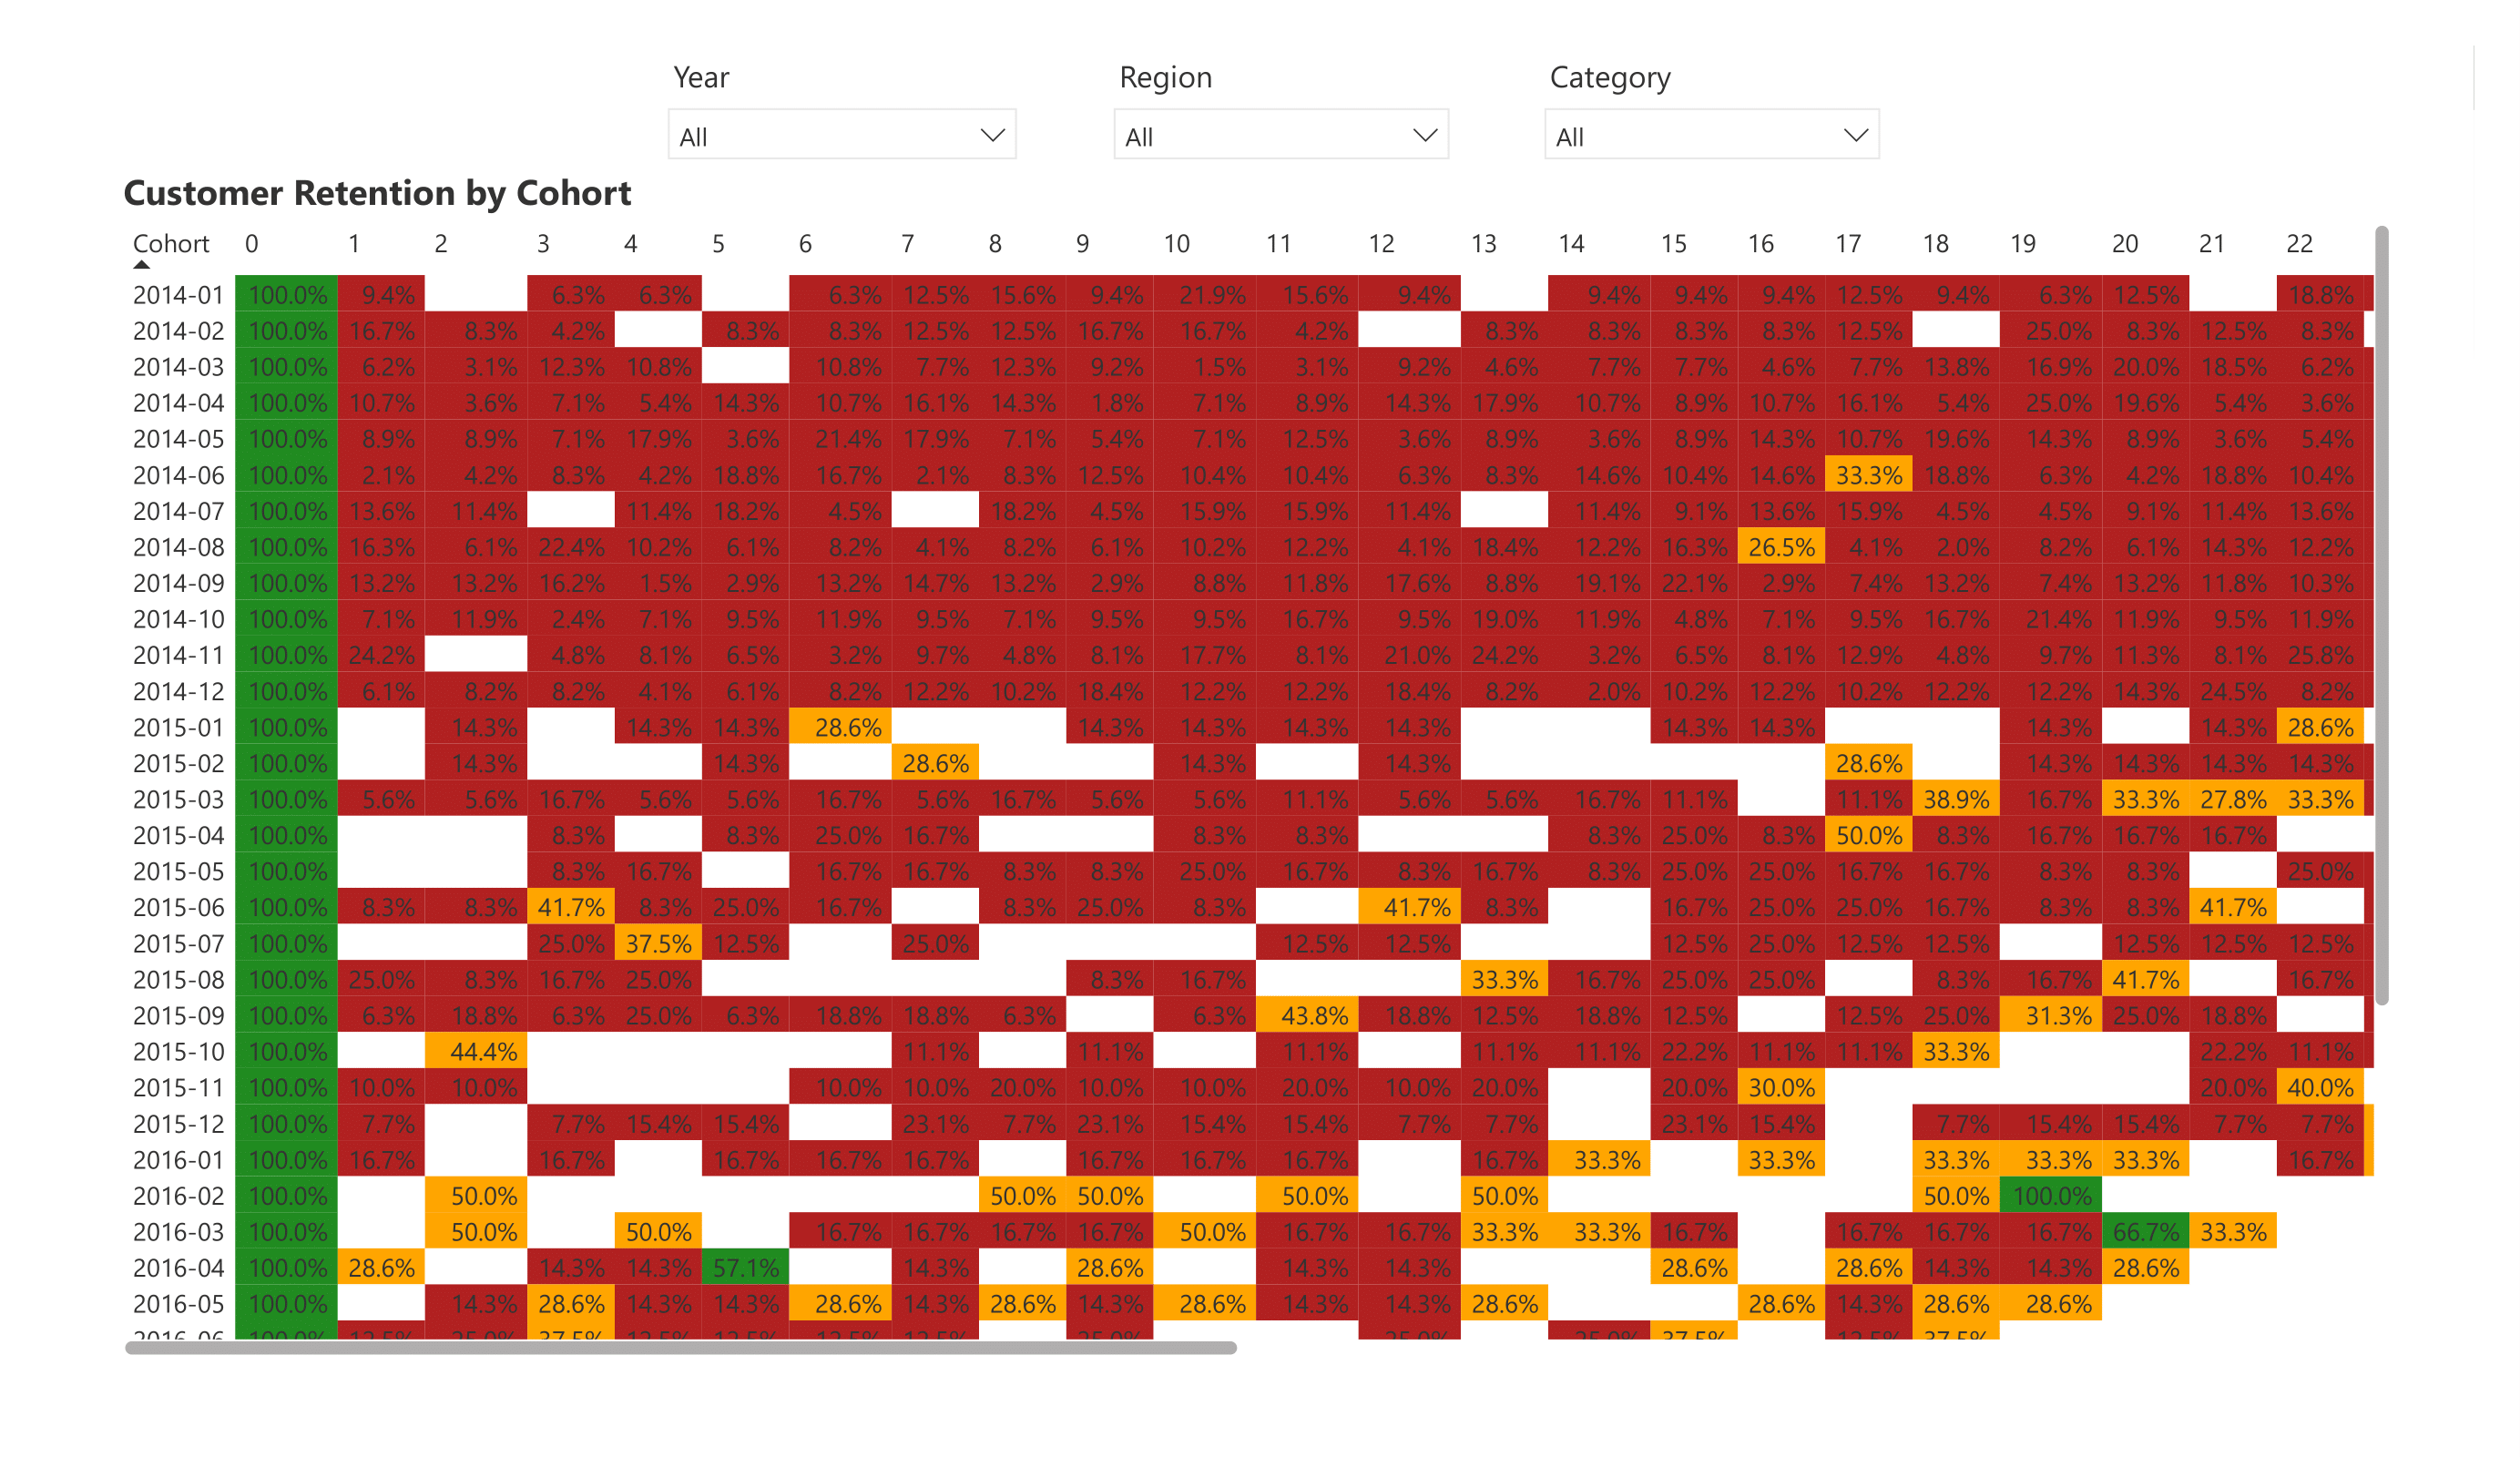

What the dashboard file says about the page in this screenshot:
{"tool":"powerbi","page":{"name":"Page 3","canvas":[1280,720],"ordinal":2},"visuals":[{"type":"pivotTable","title":"Customer Retention by Cohort","fields":{"Columns":["superstoresales_clean.MonthNumber"],"Rows":["superstoresales_clean.Cohort.Variation.Date Hierarchy.Year"],"Values":["superstoresales_clean.Retention %"]},"box":[35.7,64.3,1205.4,632.1],"z":0},{"type":"slicer","fields":{"Values":["superstoresales_clean.Region"]},"box":[552.5,0,197.3,64.8],"z":1000},{"type":"slicer","fields":{"Values":["superstoresales_clean.Category"]},"box":[780,0,197.3,64.8],"z":2000},{"type":"slicer","fields":{"Values":["DateTable.Year"]},"box":[317.8,0,204.5,64.8],"z":3000}]}

Visuals, with their boxes on the page's 1280x720 design canvas (x1, y1, x2, y2). These are canvas units, not pixel positions in the 2520x1457 screenshot, which may show the page scaled, cropped or inside an application window:
"Customer Retention by Cohort" pivotTable: detection(36, 64, 1241, 696)
slicer - superstoresales_clean.Region: detection(552, 0, 750, 65)
slicer - superstoresales_clean.Category: detection(780, 0, 977, 65)
slicer - DateTable.Year: detection(318, 0, 522, 65)
